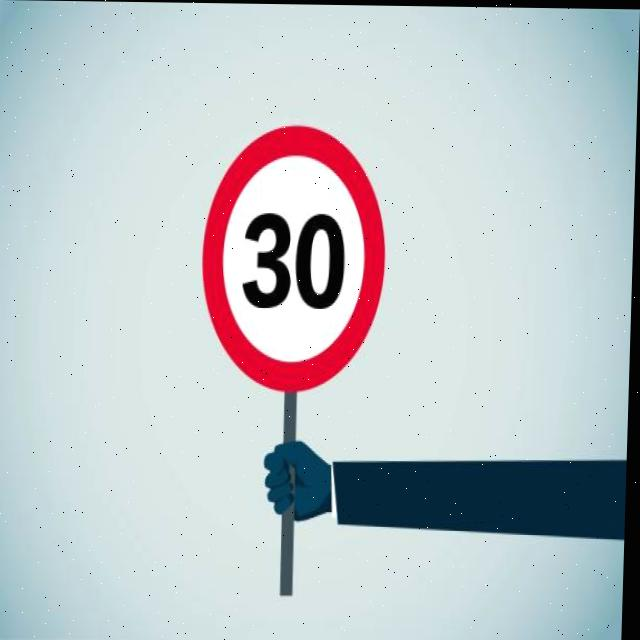Speed limit 30: (199, 120, 392, 395)
